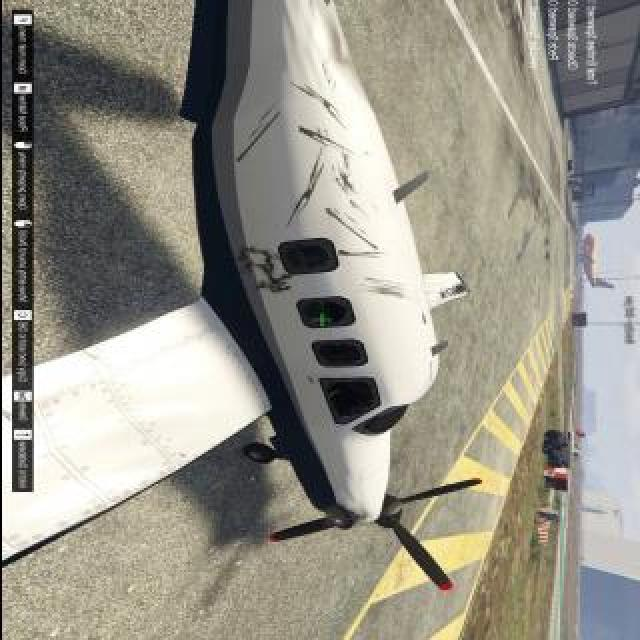dent: (290, 84, 345, 129), (242, 246, 291, 294), (324, 209, 378, 252), (236, 112, 279, 162), (296, 157, 323, 210), (298, 128, 349, 153), (360, 286, 402, 298), (337, 251, 385, 258), (339, 175, 354, 192)
